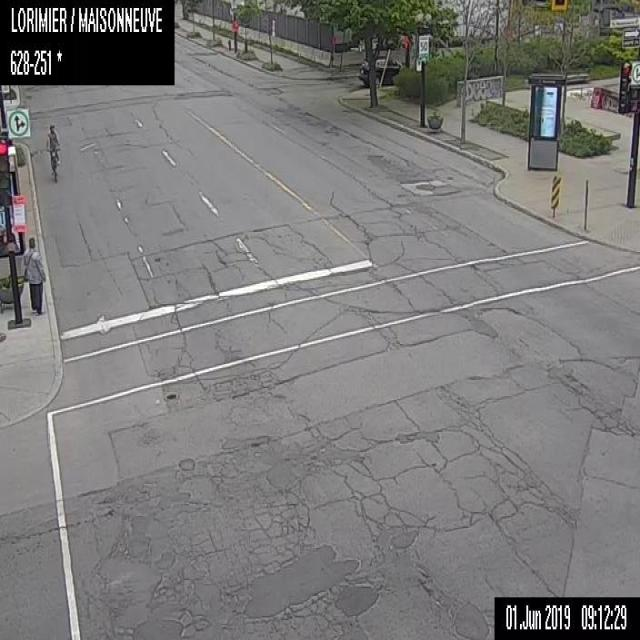cyclist: (44, 124, 62, 183)
pedestrian: (22, 235, 46, 316)
vehicle: (357, 54, 402, 85)
